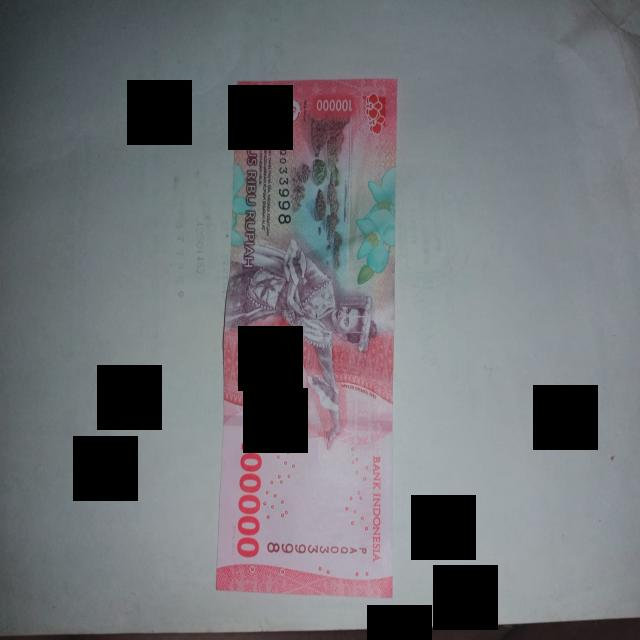seratusribu rupiah: (216, 81, 396, 598)
